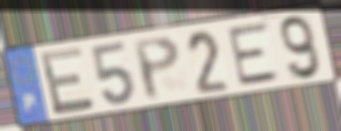2: (185, 27, 234, 96)
5: (88, 39, 138, 108)
9: (276, 13, 323, 81)
E: (37, 44, 98, 118), (225, 19, 283, 89)
P: (130, 33, 183, 103)
